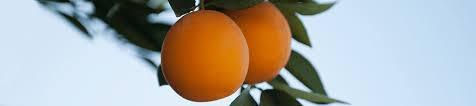orange: (160, 9, 248, 102), (220, 1, 295, 81)
